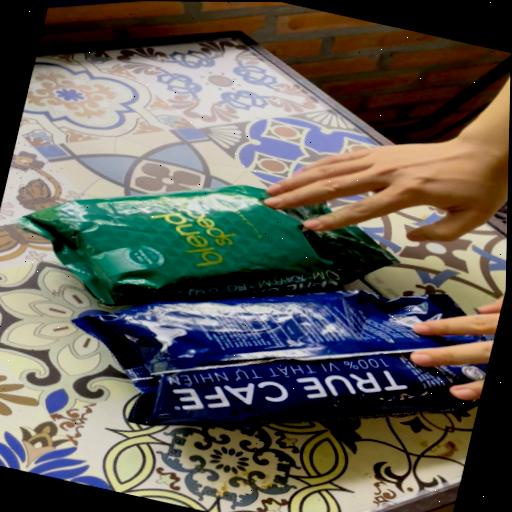cafe_hat: (71, 290, 488, 429)
